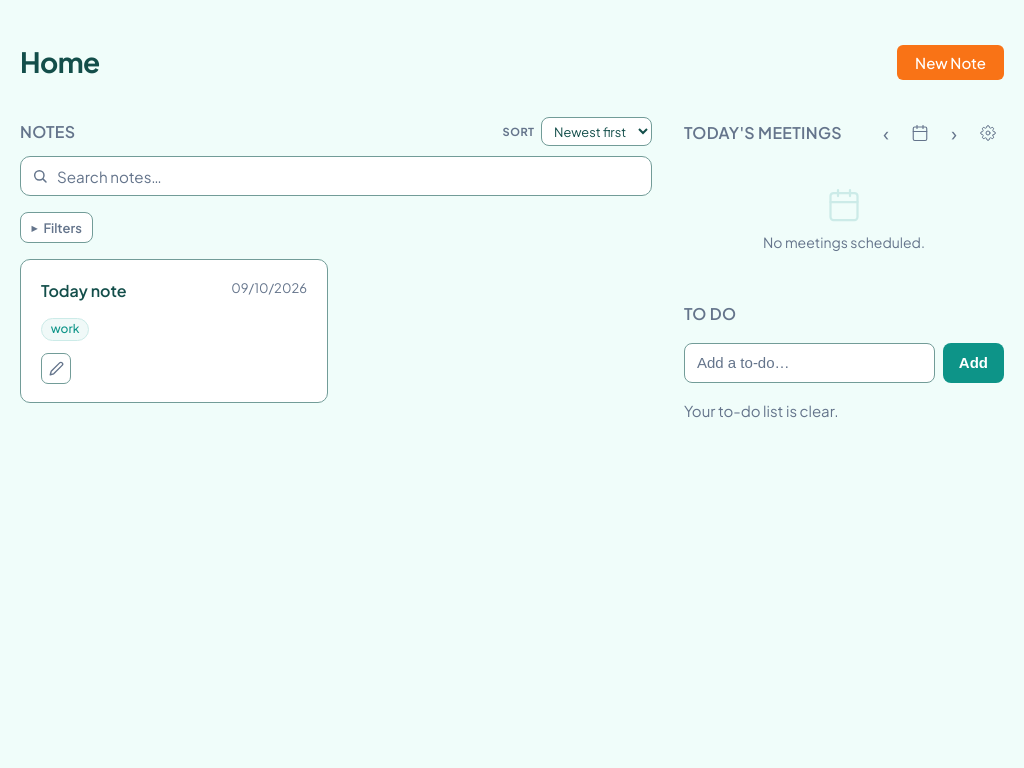
CHANGE-6 — collapsible Filters on the home view › collapsed summary reflects a non-default date range (Option D + 40-A)
Click the button "▸ Filters": x=57, y=228 [20, 212, 93, 243]
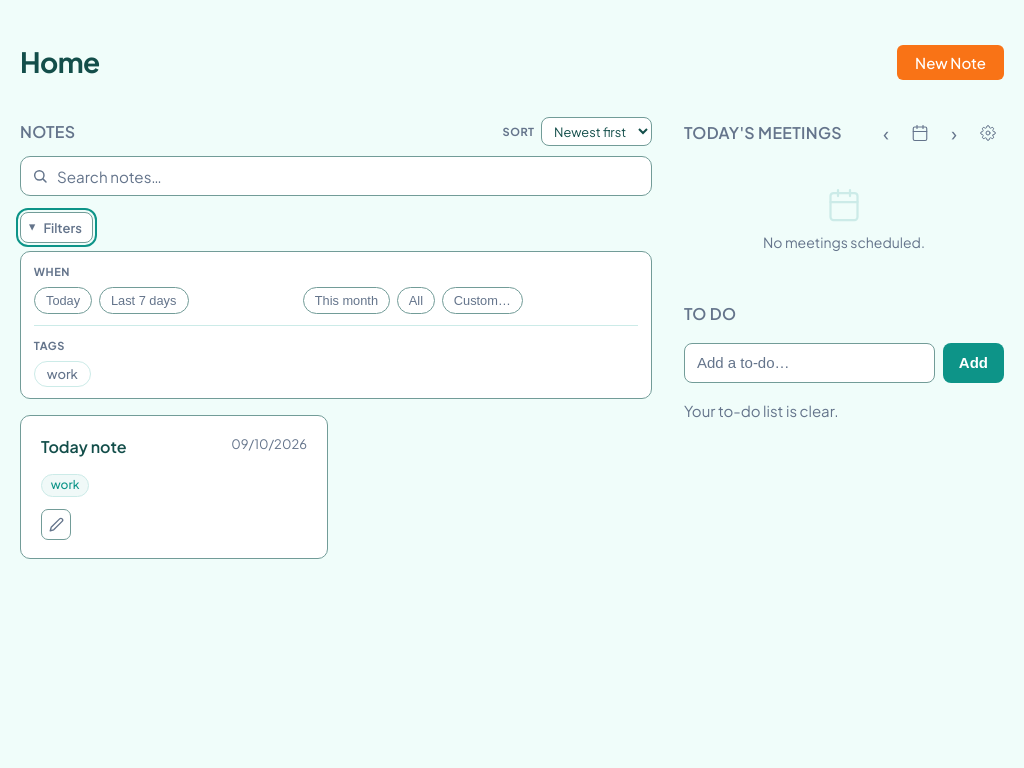
Click the button with test id "range-preset-today": x=63, y=300 [34, 287, 92, 314]
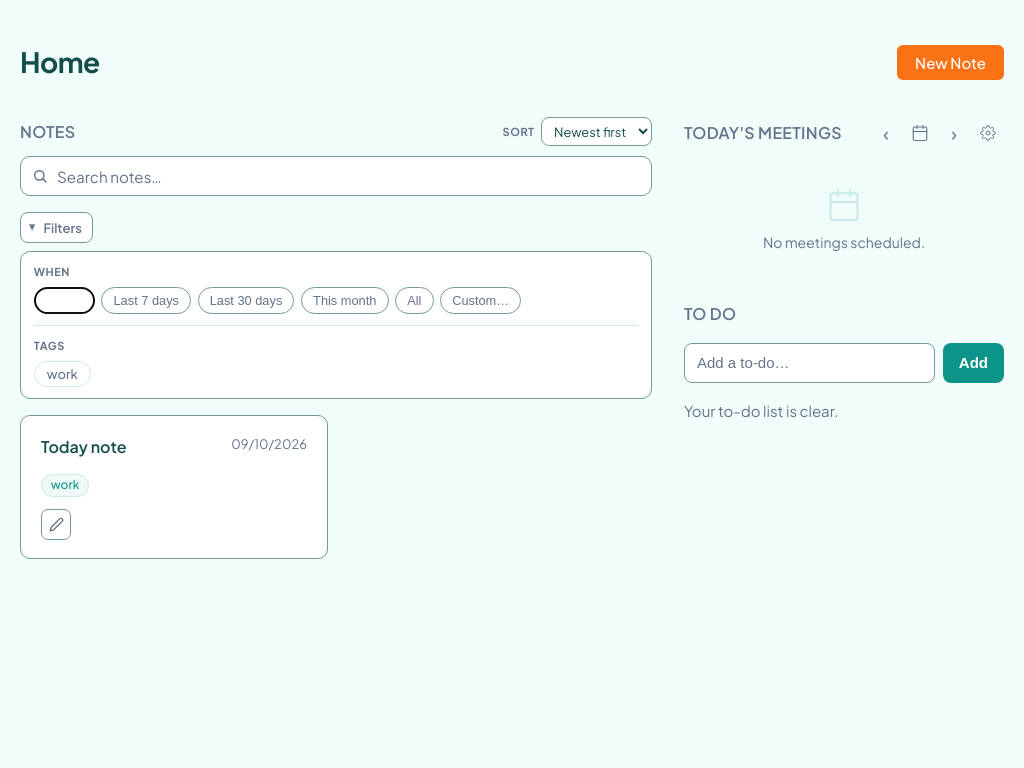
Click the button "▸ Filters": x=57, y=228 [20, 212, 93, 243]
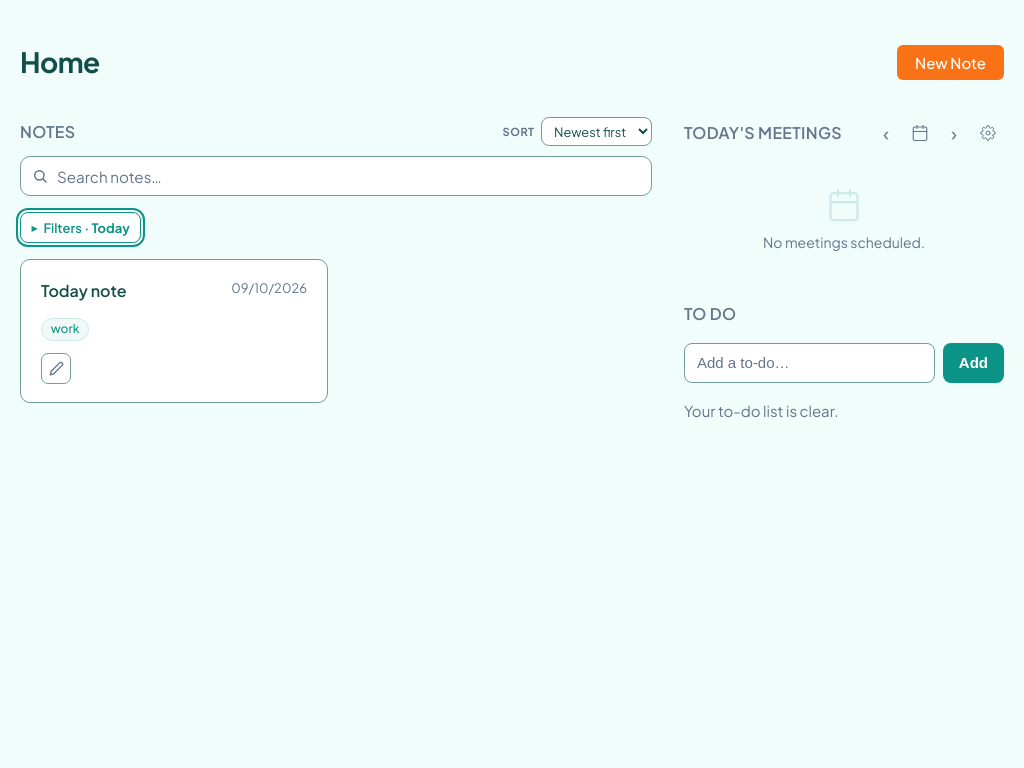
Check: the button "▸ Filters · Today" is shown, box [20, 212, 141, 243]
